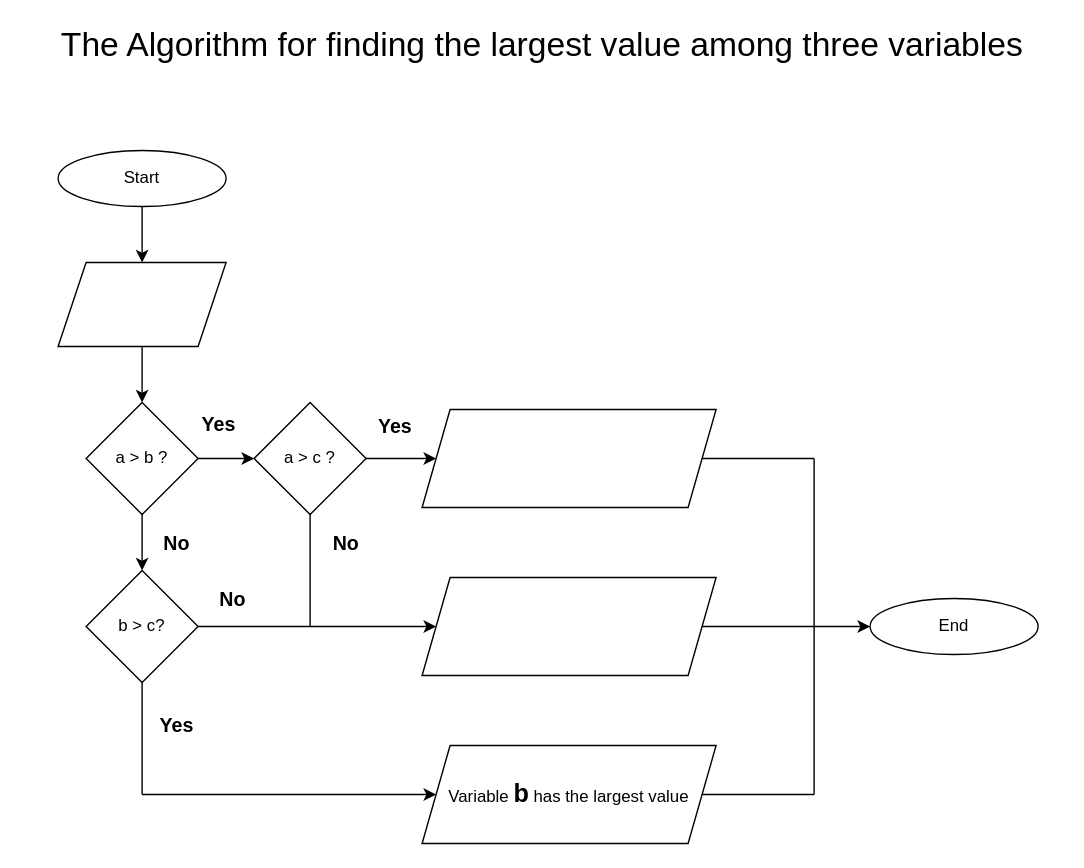
The diagram is 1084 pixels wide and 868 high, and some of its shapes have lost their labels. Each missing label, with the centre of its shape:
"Input a, b, c" goes at point 141,303.
"Variable a has the largest value" goes at point 568,457.
"Variable c has the largest value" goes at point 568,626.
